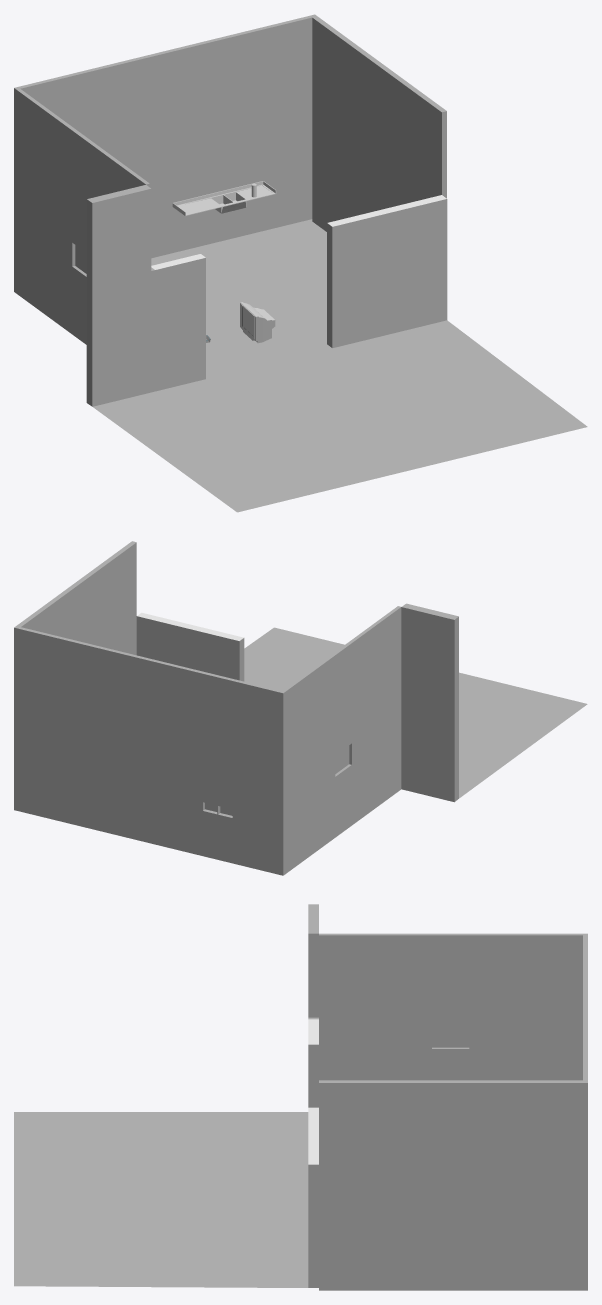
3 views of the same model, one above another, from view 1: azimuth 30°, elevation 25°; view 2: azimuth 150°, elevation 25°; view 3: azimuth 270°, elevation 25° (orthographic). The views are drawn at different scales.
Parts seen in each view (by area): view 1: Mesh8 Model, Mesh2 Group2 Stainless_Steel_Sink1 Group1 Model, Mesh4 tv_crt1 Model; view 2: Mesh8 Model; view 3: Mesh8 Model.
Boxes of the visible parts, bbox=[...] form: Mesh8 Model: bbox=[14, 14, 587, 512]; Mesh2 Group2 Stainless_Steel_Sink1 Group1 Model: bbox=[172, 181, 276, 215]; Mesh4 tv_crt1 Model: bbox=[240, 302, 275, 343]; Mesh8 Model: bbox=[14, 541, 587, 875]; Mesh8 Model: bbox=[14, 904, 587, 1290].
Size of the model in its own units: 7763 by 4200 by 10521.
